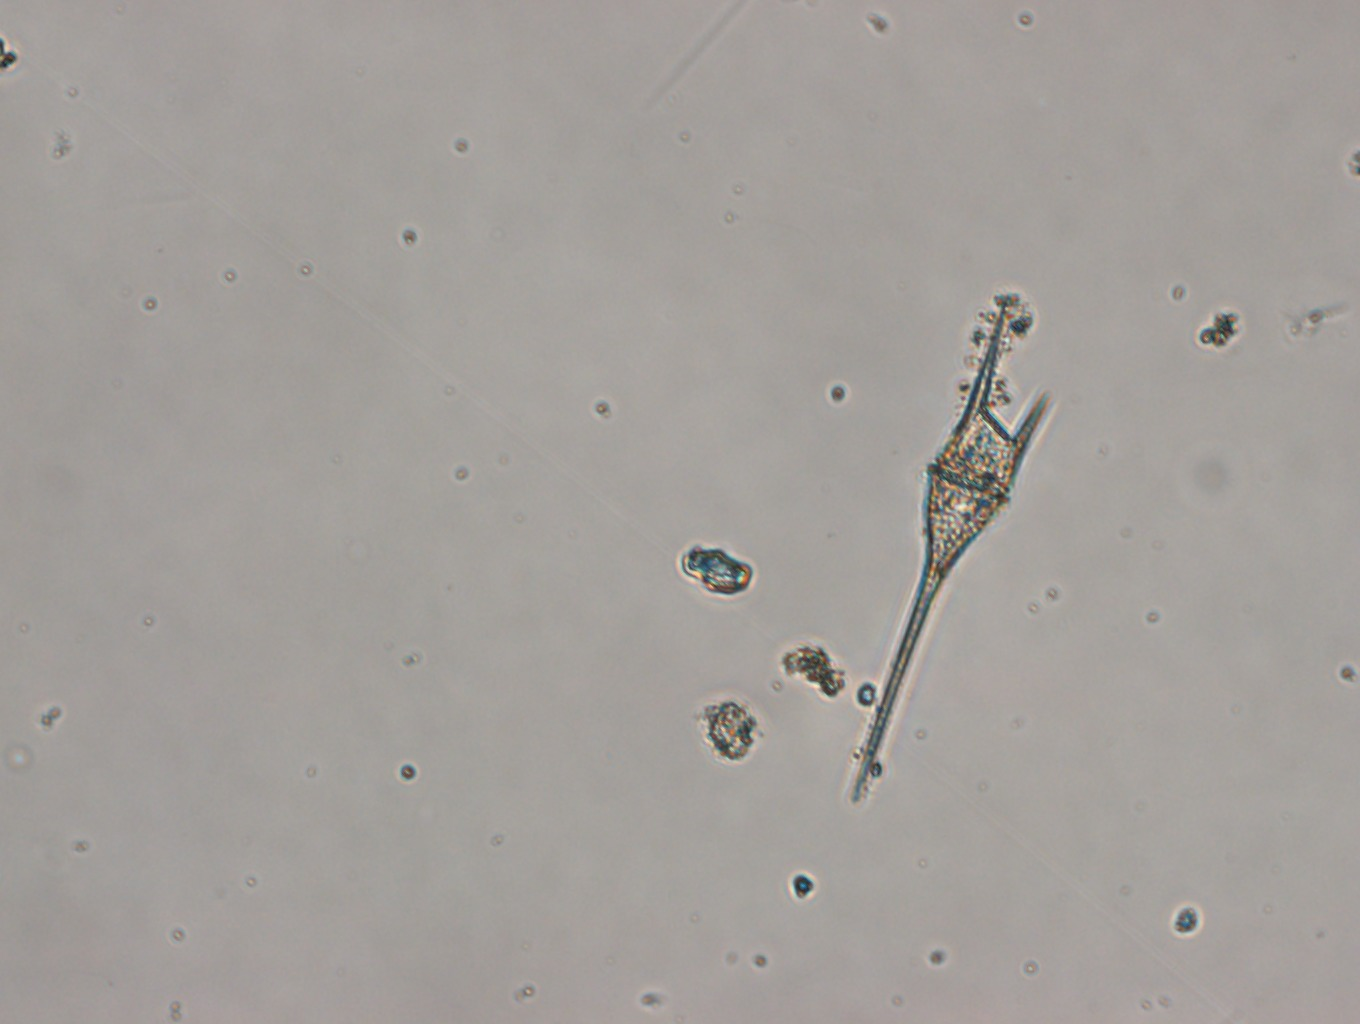ceratium furca: (843, 296, 1053, 808)
